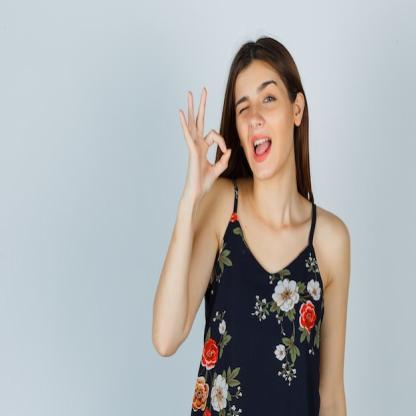ok: (176, 85, 232, 195)
